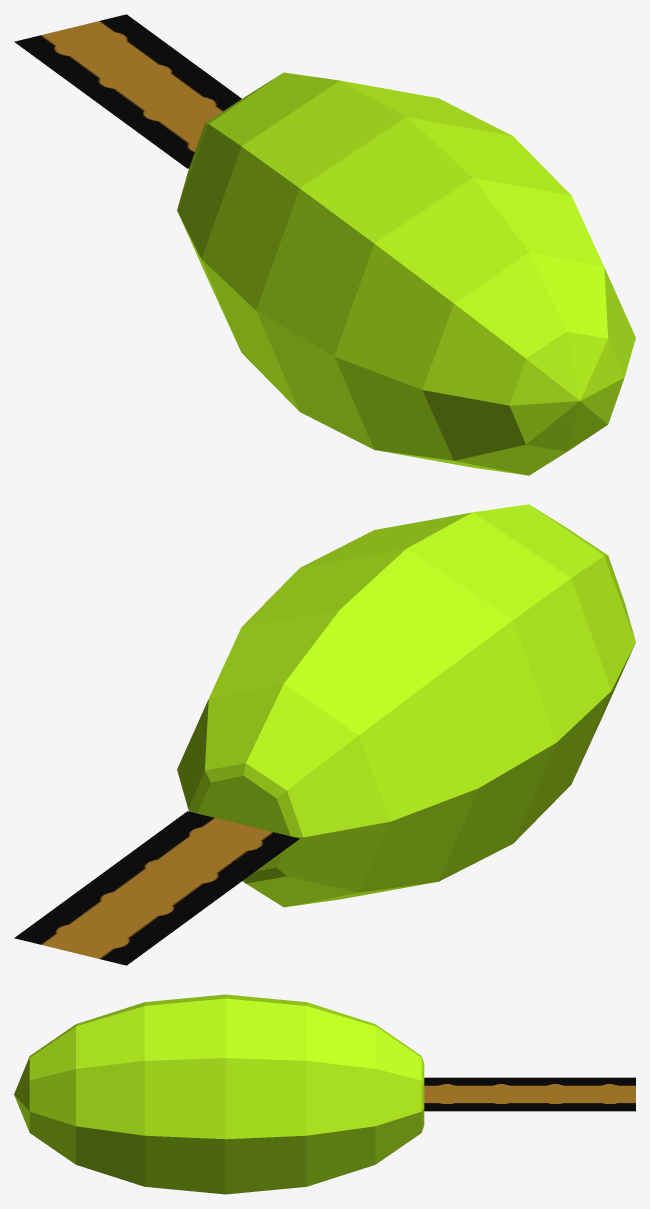
File: tree_tall.obj
3 views of the same model, one above another, from view 1: azimuth 30°, elevation 25°; view 2: azimuth 150°, elevation 25°; view 3: azimuth 270°, elevation 25° (orthographic). The views are drawn at different scales.
Visible parts, largest first — view 1: mat4model0surf0, mat1model0surf62, mat1model0surf50, mat1model0surf58, mat1model0surf46, mat1model0surf63, mat1model0surf51, mat1model0surf52, mat1model0surf60, mat1model0surf42, mat1model0surf64, mat1model0surf17 (+17 smaller); view 2: mat4model0surf0, mat1model0surf63, mat1model0surf51, mat1model0surf59, mat1model0surf47, mat1model0surf62, mat1model0surf50, mat1model0surf53, mat1model0surf61, mat1model0surf43, mat1model0surf65, mat1model0surf18 (+10 smaller); view 3: mat4model0surf0, mat1model0surf2, mat1model0surf1, mat1model0surf16, mat1model0surf15, mat1model0surf6, mat1model0surf5, mat1model0surf4, mat1model0surf3, mat1model0surf18, mat1model0surf17, mat1model0surf8 (+9 smaller).
Boxes of the visible parts, box(x1,y1,x2,y2) form: mat4model0surf0: box(14, 14, 241, 168); mat1model0surf62: box(256, 188, 374, 356); mat1model0surf50: box(300, 117, 472, 243); mat1model0surf58: box(334, 244, 453, 389); mat1model0surf46: box(374, 178, 528, 303); mat1model0surf63: box(201, 146, 299, 310); mat1model0surf51: box(241, 80, 405, 188); mat1model0surf52: box(422, 304, 525, 405); mat1model0surf60: box(334, 357, 453, 460); mat1model0surf42: box(454, 252, 566, 358); mat1model0surf64: box(256, 311, 373, 449); mat1model0surf17: box(473, 178, 603, 266); mat4model0surf0: box(14, 811, 299, 965); mat1model0surf63: box(439, 620, 556, 787); mat1model0surf51: box(340, 549, 512, 675); mat1model0surf59: box(359, 675, 478, 821); mat1model0surf47: box(284, 609, 438, 734); mat1model0surf62: box(513, 578, 611, 741); mat1model0surf50: box(406, 512, 570, 619); mat1model0surf53: box(287, 735, 390, 837); mat1model0surf61: box(359, 788, 478, 892); mat1model0surf43: box(246, 684, 358, 790); mat1model0surf65: box(439, 743, 556, 881); mat1model0surf18: box(209, 609, 339, 698); mat4model0surf0: box(424, 1077, 635, 1111); mat1model0surf2: box(225, 1058, 306, 1139); mat1model0surf1: box(144, 1058, 225, 1139); mat1model0surf16: box(225, 998, 306, 1060); mat1model0surf15: box(144, 998, 225, 1060); mat1model0surf6: box(306, 1061, 375, 1135); mat1model0surf5: box(76, 1061, 144, 1135); mat1model0surf4: box(225, 1135, 306, 1194); mat1model0surf3: box(144, 1135, 225, 1194); mat1model0surf18: box(306, 1006, 375, 1068); mat1model0surf17: box(76, 1006, 144, 1068); mat1model0surf8: box(306, 1126, 375, 1186).
Size of the model in its own units: 32 by 32 by 94.
